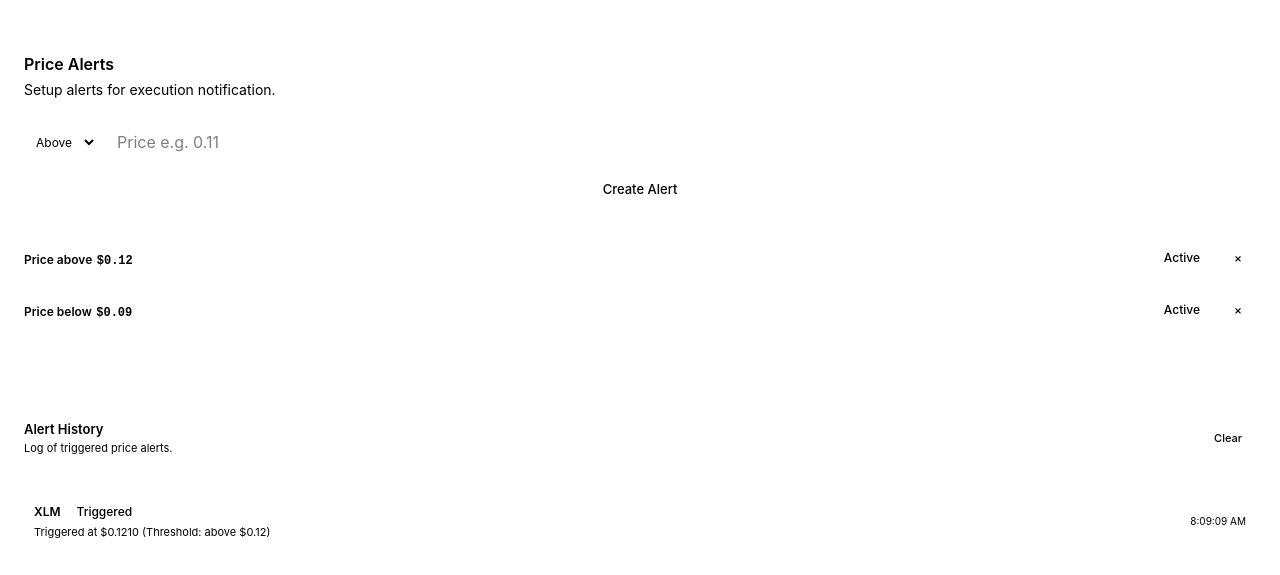
Test case: ChartingScreen › renders alert history and allows clearing history (#1148)
(page scrolled)
Expected: the element with test id "alert-history" is shown, [34,504,1246,539]
Expected: the text "Triggered at $0.1210 (Threshold: above $0.12)" is shown, [34,524,270,540]
Click the button with test id "clear-alert-history-button": click(1228, 438) [1200,422,1256,454]
(page scrolled)
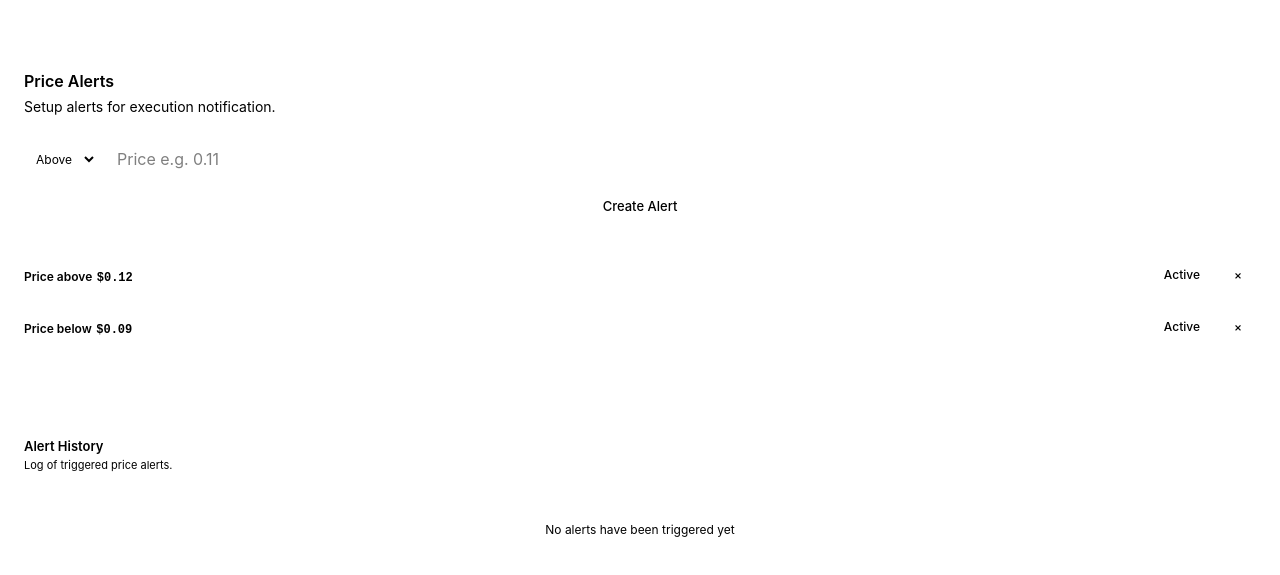
Now the text "No alerts have been triggered yet" is shown, box [545,522,735,537]
